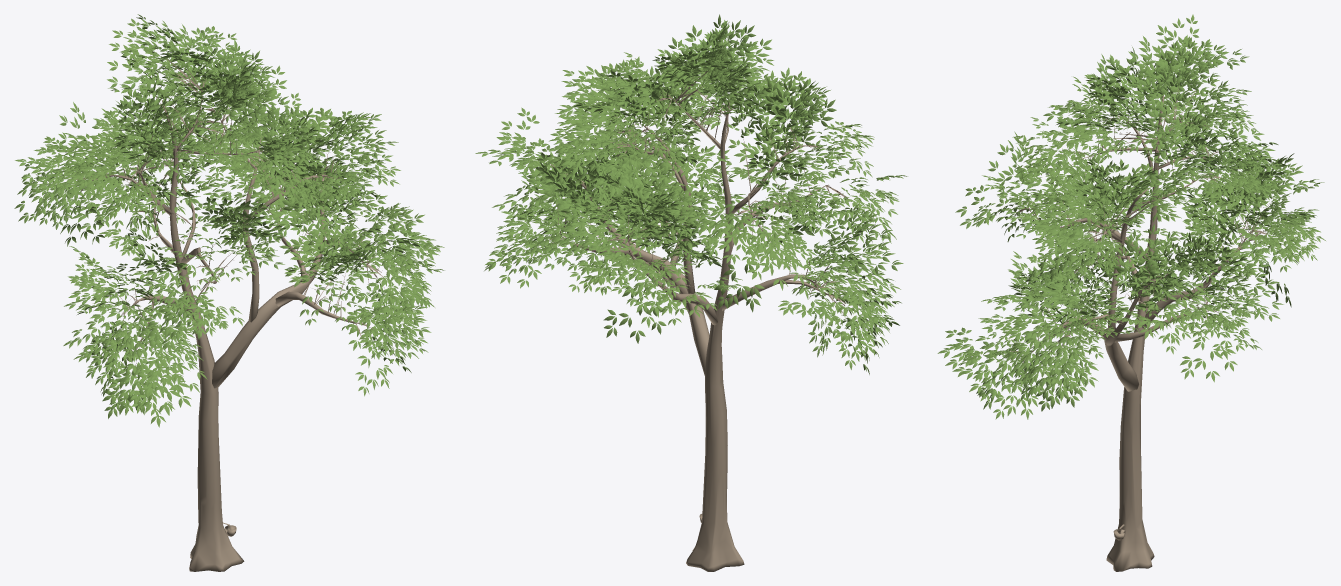
The picture shows the model from 3 angles, left to right: view 1: azimuth 30°, elevation 25°; view 2: azimuth 150°, elevation 25°; view 3: azimuth 270°, elevation 25°; orthographic projection. The views are drawn at different scales.
Visible parts, largest first — view 1: V20_LOD0_Foliage, V20_LOD0_Body; view 2: V20_LOD0_Foliage, V20_LOD0_Body; view 3: V20_LOD0_Foliage, V20_LOD0_Body.
Boxes of the visible parts, x1,y1,x2,y2 form: V20_LOD0_Foliage: [14, 14, 444, 427]; V20_LOD0_Body: [77, 58, 384, 571]; V20_LOD0_Foliage: [475, 14, 907, 374]; V20_LOD0_Body: [547, 71, 851, 571]; V20_LOD0_Foliage: [937, 14, 1325, 419]; V20_LOD0_Body: [1010, 72, 1270, 571].
Size of the model in its own units: 9 by 13 by 8.74.
